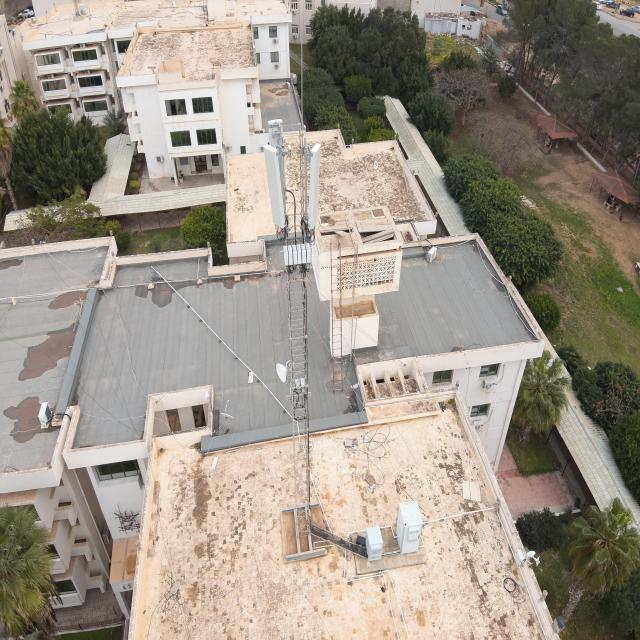antenna: (266, 116, 292, 209), (262, 142, 288, 232), (306, 142, 324, 229)
lighnig-rad: (299, 36, 304, 134)
microware-dish: (274, 355, 295, 383)
power-box: (288, 378, 307, 397)
radio-unit: (280, 238, 315, 273)
